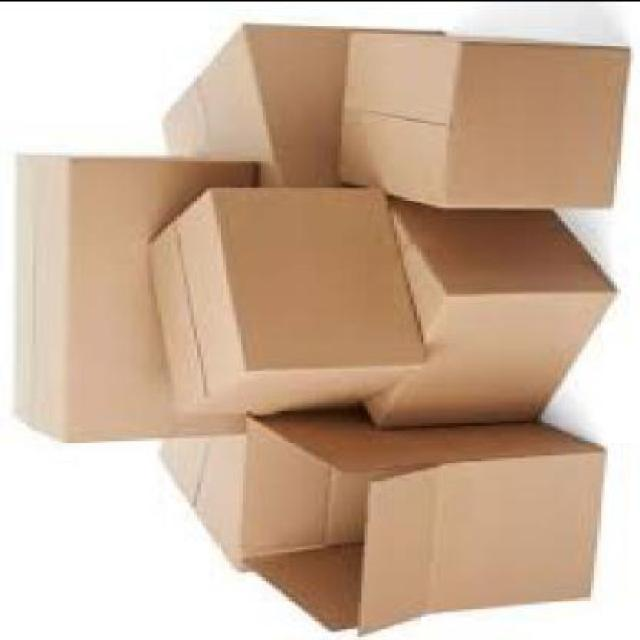CARDBOARD: (236, 427, 601, 636), (10, 151, 262, 444), (141, 183, 414, 417), (358, 208, 617, 424), (325, 32, 630, 211), (157, 28, 437, 190), (154, 410, 354, 573)
